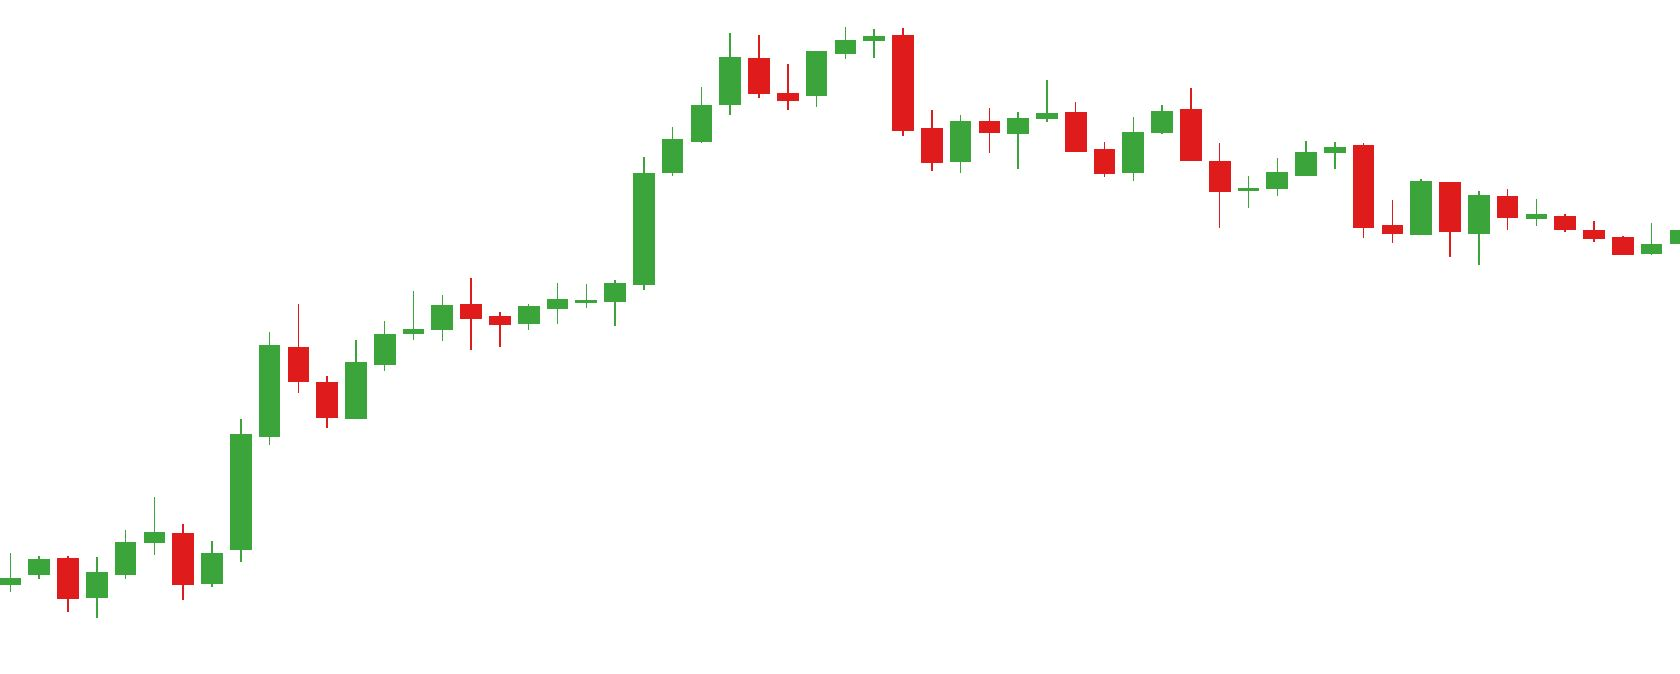sell: (716, 27, 920, 101)
